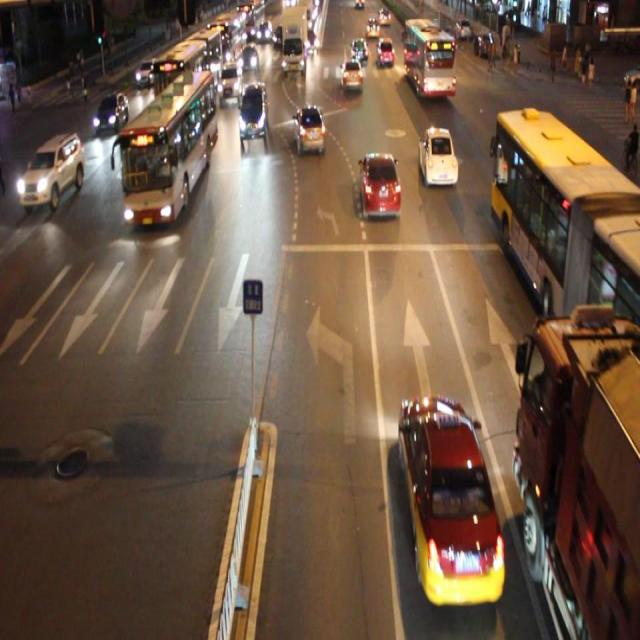bus: (516, 320, 640, 640)
car: (399, 395, 504, 603), (19, 132, 84, 208), (359, 149, 400, 218), (418, 126, 458, 186), (237, 80, 269, 140), (293, 104, 326, 152), (95, 92, 127, 130), (218, 61, 241, 100), (340, 58, 362, 91), (135, 57, 157, 83)
van: (491, 112, 640, 331), (122, 70, 216, 225), (404, 19, 456, 98)
